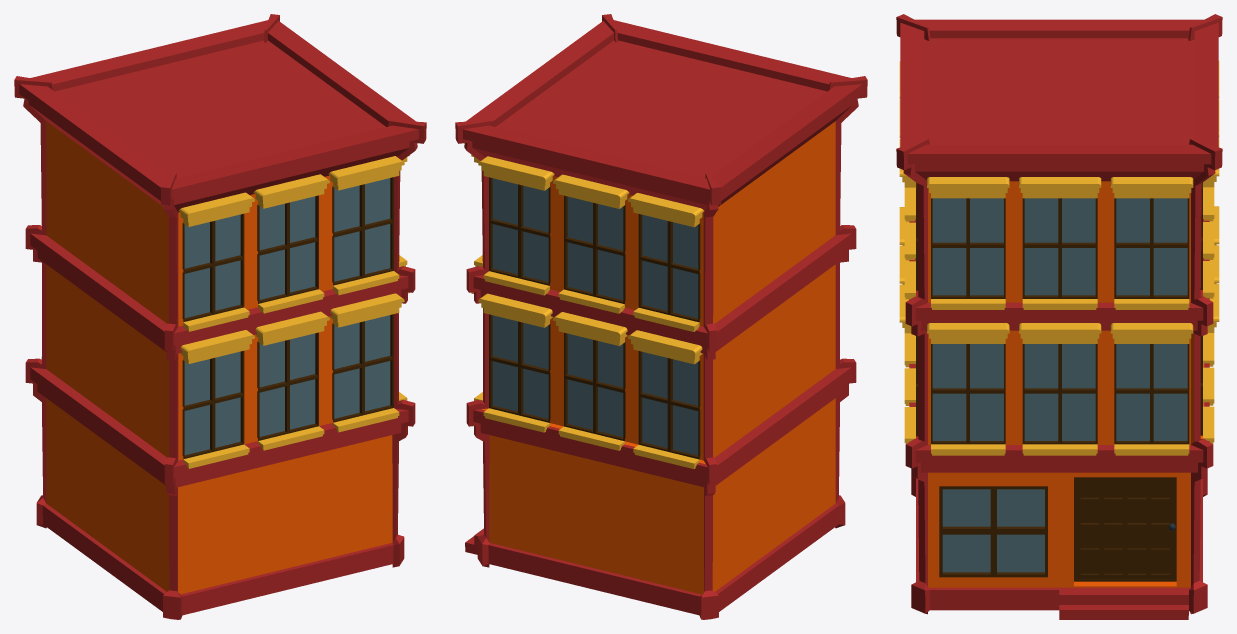
The model's file is 3-Red&Orang.fbx.
3 views of the same model, side by side, from view 1: azimuth 30°, elevation 25°; view 2: azimuth 150°, elevation 25°; view 3: azimuth 270°, elevation 25° (orthographic). The views are drawn at different scales.
Parts seen in each view (by area): view 1: Cube.007; view 2: Cube.007; view 3: Cube.007.
Boxes of the visible parts, x1,y1,x2,y2 form: Cube.007: (14, 14, 426, 619); Cube.007: (455, 14, 867, 619); Cube.007: (896, 14, 1222, 619).
Bounding box in the file's own units: 1421 × 1435 × 2274.
